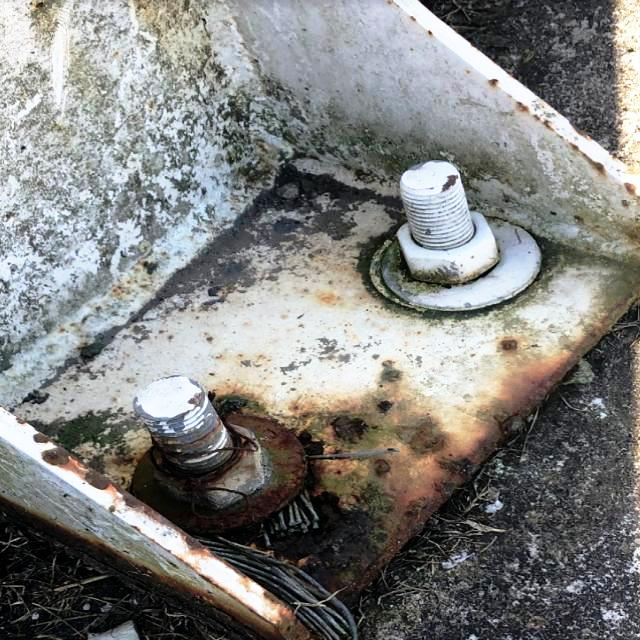Corrosion: (0, 293, 639, 640), (513, 100, 612, 177), (100, 257, 161, 305), (151, 420, 221, 450), (569, 118, 597, 142), (494, 334, 524, 355), (435, 172, 458, 194), (52, 325, 70, 337), (625, 182, 640, 196), (188, 391, 202, 406), (30, 0, 48, 10), (406, 10, 418, 20), (489, 78, 498, 86), (626, 200, 631, 206), (429, 28, 433, 34)
